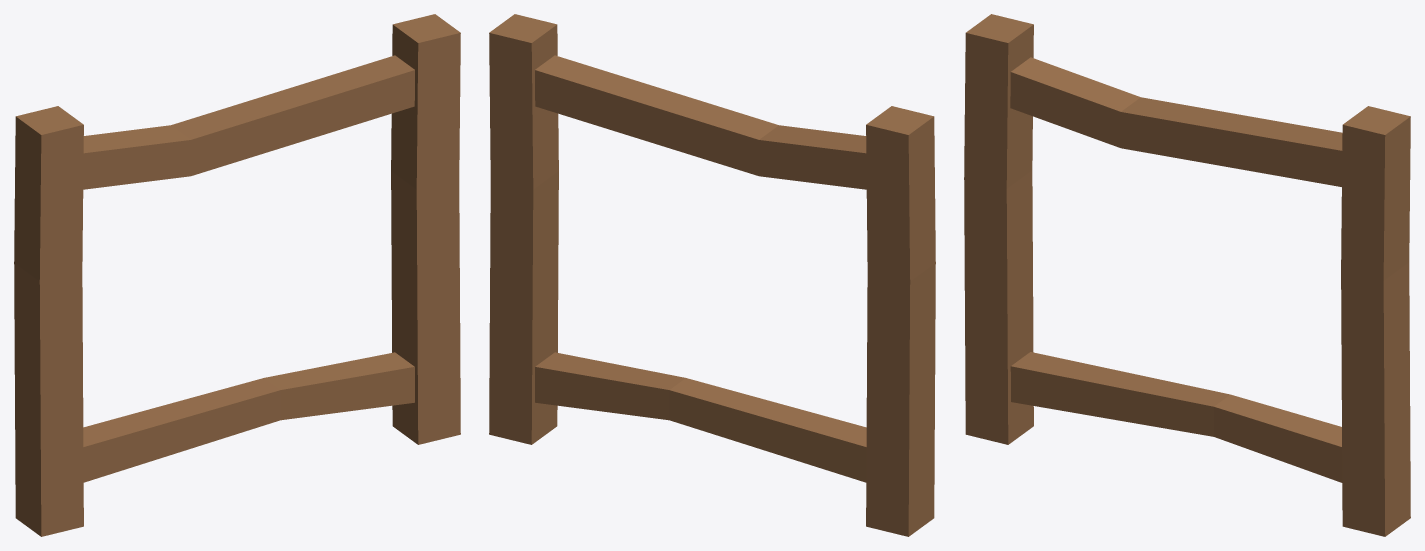
Rendered from Fence_4 Door.fbx.
The picture shows the model from 3 angles, left to right: view 1: azimuth 30°, elevation 25°; view 2: azimuth 150°, elevation 25°; view 3: azimuth 330°, elevation 25°; orthographic projection.
Visible parts, largest first — view 1: Fence4Door_mesh; view 2: Fence4Door_mesh; view 3: Fence4Door_mesh.
Boxes of the visible parts, x1=… form: Fence4Door_mesh: x1=14, y1=14, x2=460, y2=536; Fence4Door_mesh: x1=489, y1=14, x2=935, y2=536; Fence4Door_mesh: x1=964, y1=14, x2=1410, y2=536.
Bounding box in the file's own units: 74.39 × 67.85 × 7.85.
